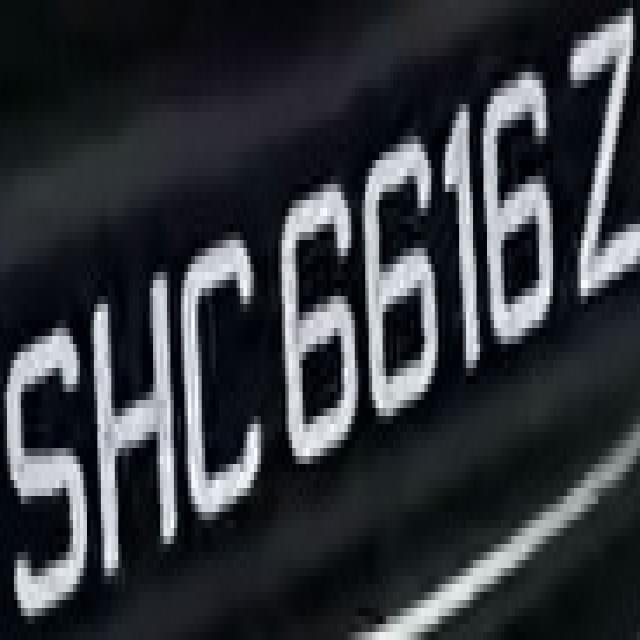1: (438, 64, 487, 384)
6: (355, 112, 445, 440), (275, 168, 365, 488), (473, 56, 557, 368)
C: (170, 224, 272, 536)
H: (80, 240, 181, 576)
S: (7, 320, 87, 640)
Z: (560, 16, 637, 320)
